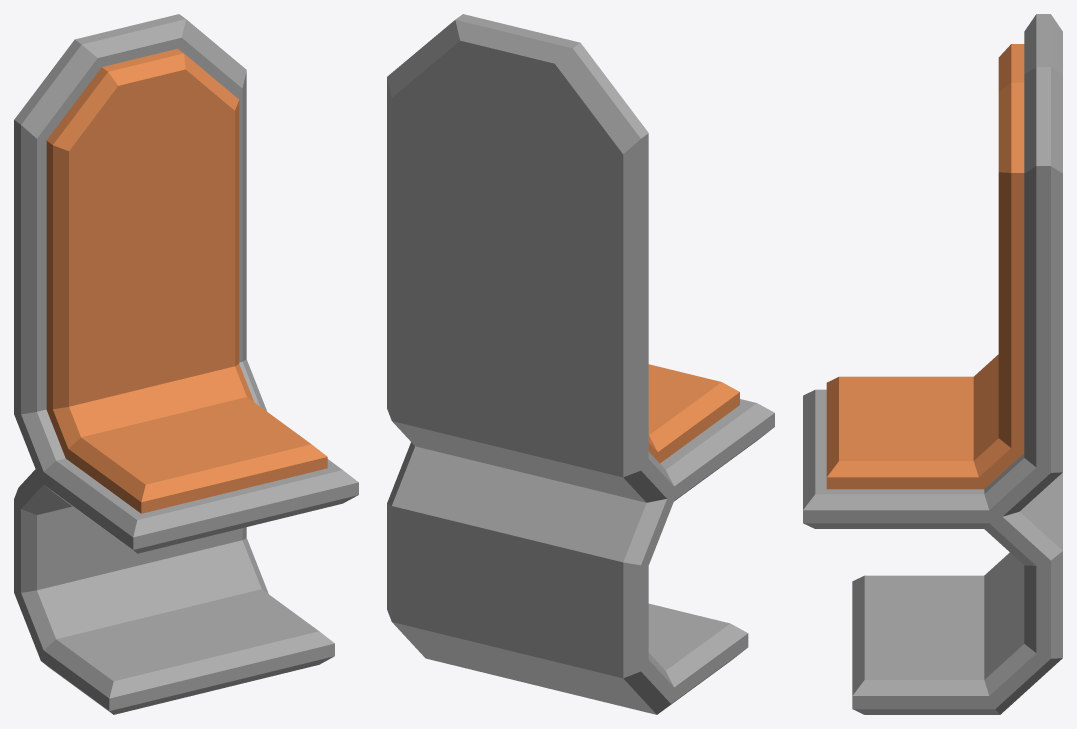
Rendered from SM_Chair.fbx.
3 renders of one model, left to right at view 1: azimuth 30°, elevation 25°; view 2: azimuth 150°, elevation 25°; view 3: azimuth 270°, elevation 25°, orthographic. The views are drawn at different scales.
Visible parts, largest first — view 1: SM_Chair; view 2: SM_Chair; view 3: SM_Chair.
Part boxes in pixels (bbox=[...]): SM_Chair: bbox=[14, 14, 358, 714]; SM_Chair: bbox=[387, 14, 774, 714]; SM_Chair: bbox=[803, 14, 1062, 714].
Size of the model in its own units: 57.17 by 145 by 54.77.
